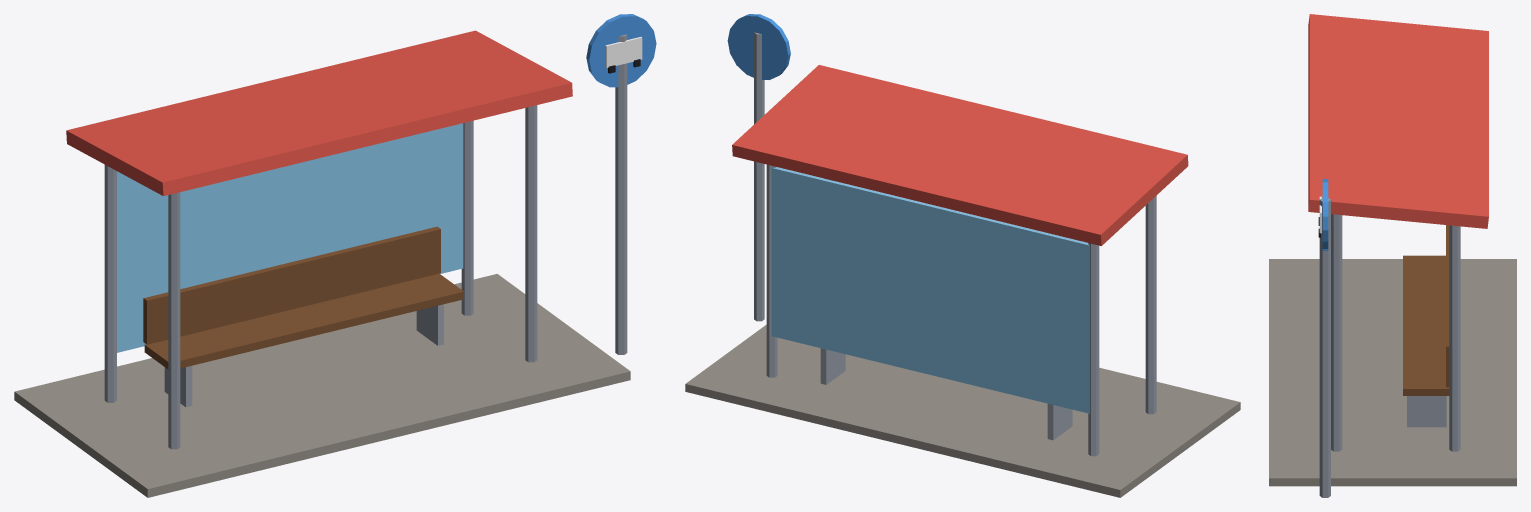
The model's file is bus_stop.glb.
The picture shows the model from 3 angles, left to right: view 1: azimuth 30°, elevation 25°; view 2: azimuth 150°, elevation 25°; view 3: azimuth 270°, elevation 25°; orthographic projection. The views are drawn at different scales.
Parts seen in each view (by area): view 1: bus_stop; view 2: bus_stop; view 3: bus_stop.
Boxes of the visible parts, x1,y1,x2,y2 form: bus_stop: (14, 14, 656, 497); bus_stop: (685, 14, 1240, 497); bus_stop: (1269, 14, 1516, 497).
Bounding box in the file's own units: 5.12 × 3.07 × 2.2.
